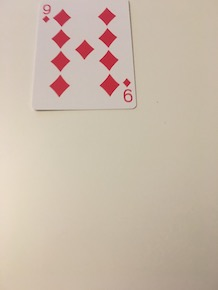NineOfDiamonds: (31, 1, 139, 112)
